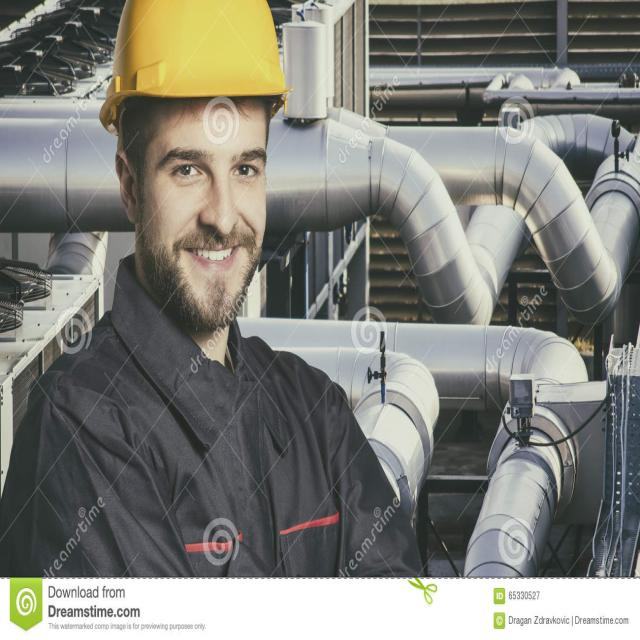Safety-Helmet: (99, 0, 294, 122)
